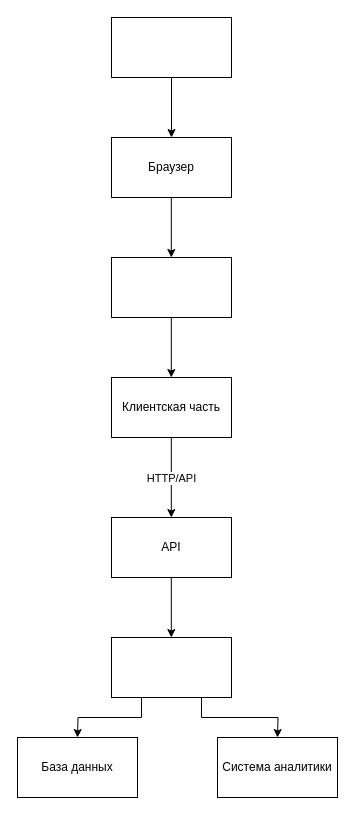
The diagram is 355 pixels wide and 815 high, and some of its shapes have lost their labels. The centre of each missing label's shape, as x and y in pixels:
"Пользователь" goes at pixel 171 47.
"Пользовательский интерфейс" goes at pixel 171 287.
"Серверная часть" goes at pixel 171 667.
